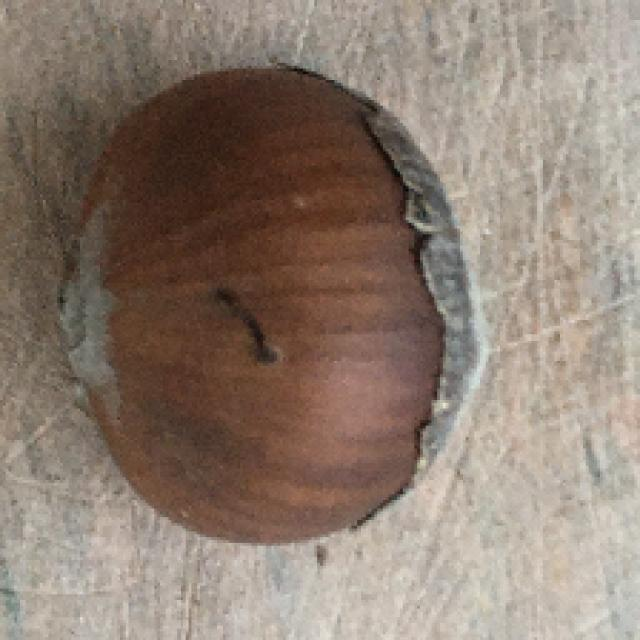damagedHazelnut: (68, 64, 481, 552)
